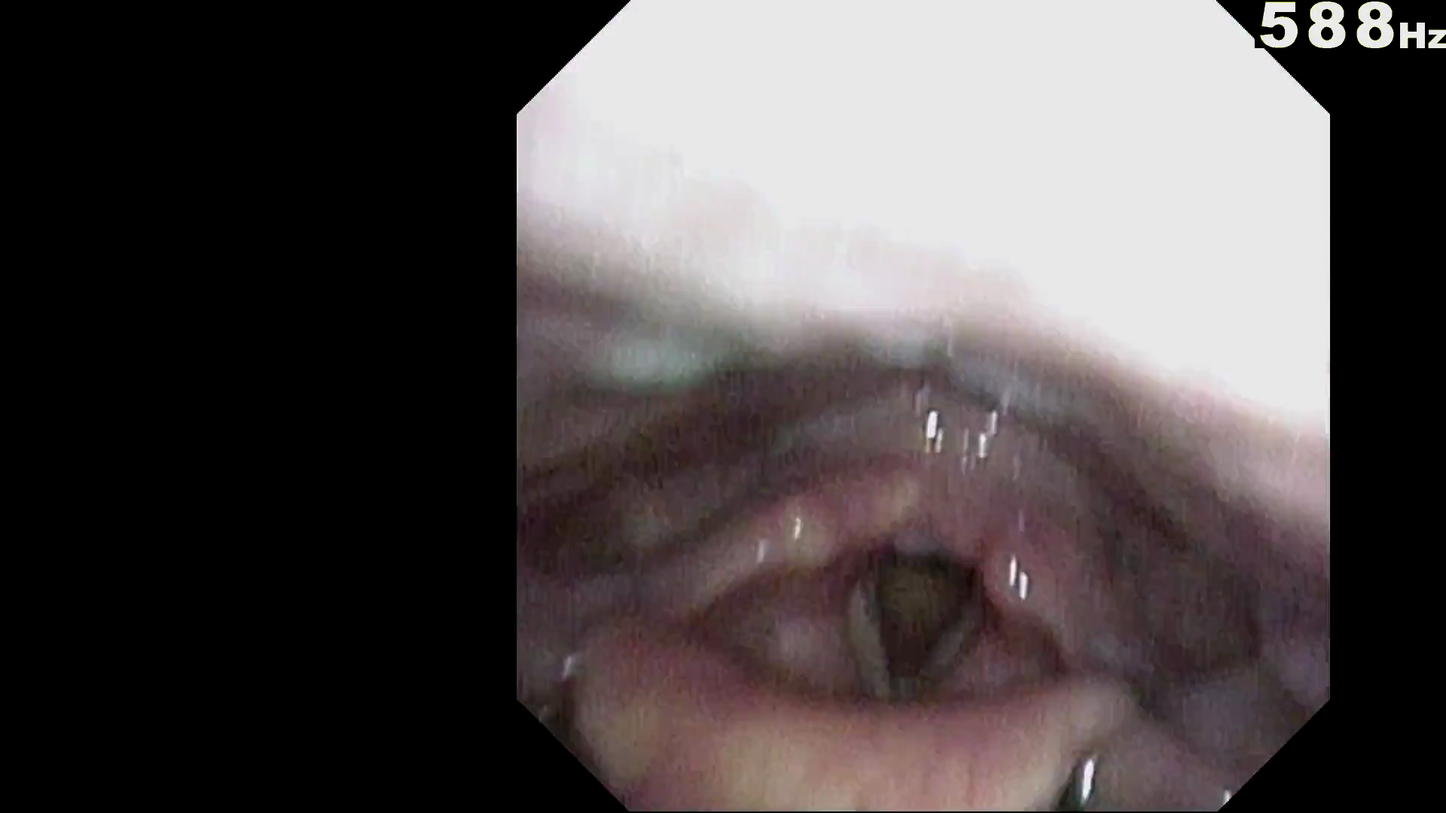trachea: (865, 532, 989, 686)
